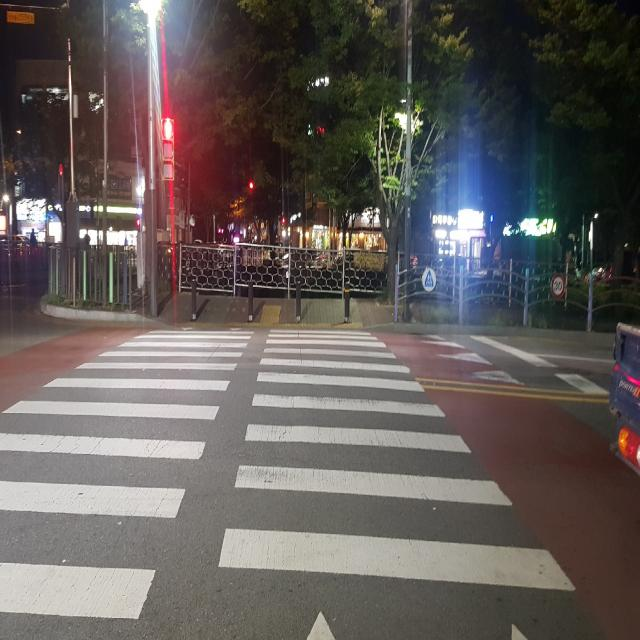빨간불: (161, 119, 175, 178)
횡단보도: (0, 329, 578, 640)
